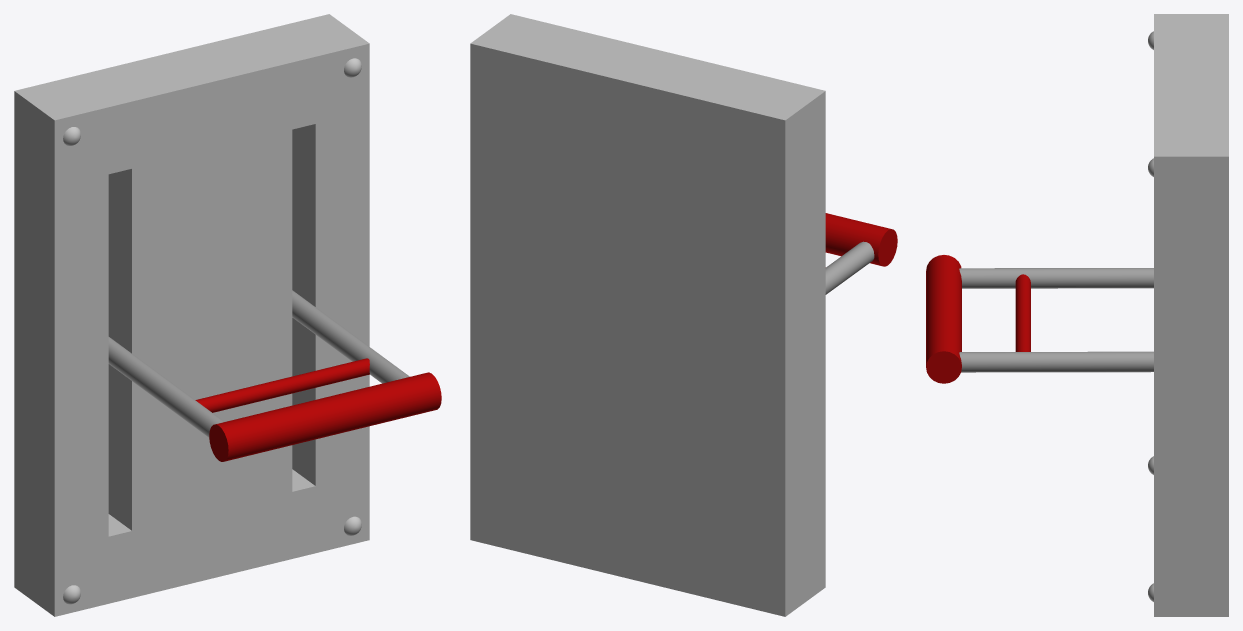
Rendered from stage03_lever_02.fbx.
The picture shows the model from 3 angles, left to right: view 1: azimuth 30°, elevation 25°; view 2: azimuth 150°, elevation 25°; view 3: azimuth 270°, elevation 25°; orthographic projection. The views are drawn at different scales.
Parts seen in each view (by area): view 1: polySurface57, polySurface28, pCylinder3, pCylinder4, pCylinder2; view 2: polySurface57, polySurface28, pCylinder3; view 3: polySurface57, polySurface28, pCylinder2, pCylinder3, pCylinder4.
Part boxes in pixels (box(x1,y1,x2,y2)): polySurface57: box(14, 14, 369, 616); polySurface28: box(209, 372, 441, 461); pCylinder3: box(108, 337, 224, 437); pCylinder4: box(195, 358, 369, 412); pCylinder2: box(292, 290, 409, 383); polySurface57: box(470, 14, 825, 616); polySurface28: box(825, 213, 897, 266); pCylinder3: box(825, 241, 874, 294); polySurface57: box(1148, 14, 1228, 616); polySurface28: box(926, 255, 961, 383); pCylinder2: box(959, 351, 1153, 372); pCylinder3: box(959, 268, 1153, 288); pCylinder4: box(1015, 274, 1030, 351).
Bounding box in the file's own units: 52.39 × 78.89 × 47.03.
